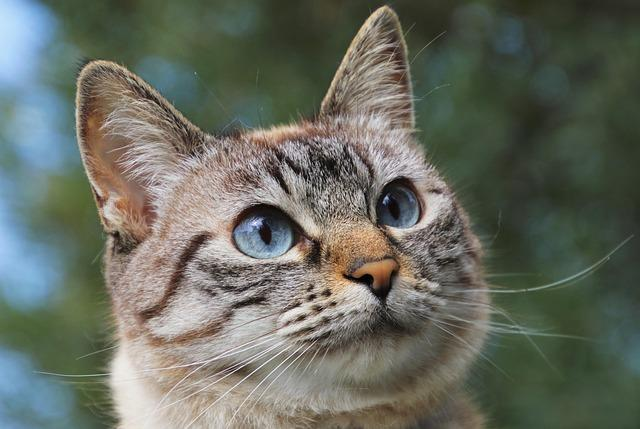Non_Gorille: (32, 0, 571, 429)
